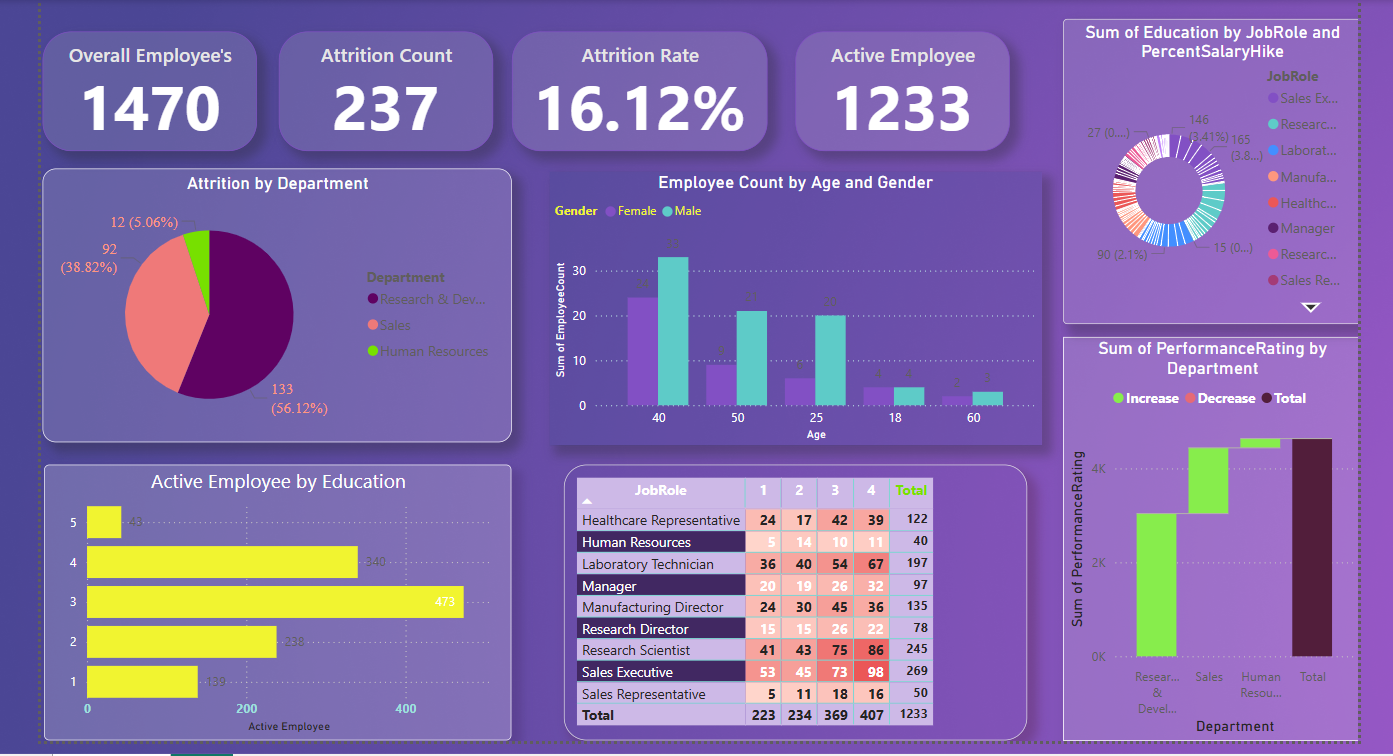

The dashboard page shown, as its layout file describes it:
{"tool":"powerbi","page":{"name":"Page 1","canvas":[1280,720],"ordinal":0},"visuals":[{"type":"card","title":"Overall Employee''s","fields":{"Values":["Sum(WA_Fn-UseC_-HR-Employee-Attrition.EmployeeCount)"]},"box":[0,30,208,116],"z":0},{"type":"card","title":"Attrition Count","fields":{"Values":["Sum(WA_Fn-UseC_-HR-Employee-Attrition.AttritionCNT)"]},"box":[230,30,208,116],"z":1000},{"type":"card","title":"Attrition Rate","fields":{"Values":["HR data.Attrition Rate"]},"box":[456,30,248,116],"z":2000},{"type":"card","title":"Active Employee","fields":{"Values":["HR data.Active Employee"]},"box":[732,30,208,116],"z":3000},{"type":"pieChart","title":"Attrition by Department ","fields":{"Category":["HR data.Department"],"Y":["Sum(HR data.AttritionCNT)"]},"box":[0,164,456,266],"z":4000},{"type":"clusteredColumnChart","title":"Employee Count by Age and Gender","fields":{"Category":["HR data.Age"],"Y":["Sum(HR data.EmployeeCount)"],"Series":["HR data.Gender"]},"box":[492,166,478,266],"z":5000},{"type":"clusteredBarChart","fields":{"Category":["HR data.Education"],"Y":["HR data.Active Employee"]},"box":[2,452,454,268],"z":6000},{"type":"pivotTable","fields":{"Rows":["HR data.JobRole"],"Columns":["HR data.JobSatisfaction"],"Values":["HR data.Active Employee"]},"box":[506,452,450,268],"z":7000},{"type":"waterfallChart","fields":{"Y":["Sum(HR data.PerformanceRating)"],"Category":["HR data.Department"]},"box":[991.5,327.1,289.4,392.1],"z":8000},{"type":"donutChart","fields":{"Category":["HR data.JobRole"],"Y":["Sum(HR data.Education)"],"Series":["HR data.PercentSalaryHike"]},"box":[991.5,18.8,289.4,296.2],"z":9000}]}

Visuals, with their boxes on the page's 1280x720 design canvas (x1, y1, x2, y2). These are canvas units, not pixel positions in the 1393x756 screenshot, which may show the page scaled, cropped or inside an application window:
"Overall Employee''s" card: left=0, top=30, right=208, bottom=146
"Attrition Count" card: left=230, top=30, right=438, bottom=146
"Attrition Rate" card: left=456, top=30, right=704, bottom=146
"Active Employee" card: left=732, top=30, right=940, bottom=146
"Attrition by Department " pieChart: left=0, top=164, right=456, bottom=430
"Employee Count by Age and Gender" clusteredColumnChart: left=492, top=166, right=970, bottom=432
clusteredBarChart - HR data.Education x HR data.Active Employee: left=2, top=452, right=456, bottom=720
pivotTable - HR data.JobRole x HR data.JobSatisfaction: left=506, top=452, right=956, bottom=720
waterfallChart - Sum(HR data.PerformanceRating) x HR data.Department: left=992, top=327, right=1281, bottom=719
donutChart - HR data.JobRole x Sum(HR data.Education): left=992, top=19, right=1281, bottom=315
